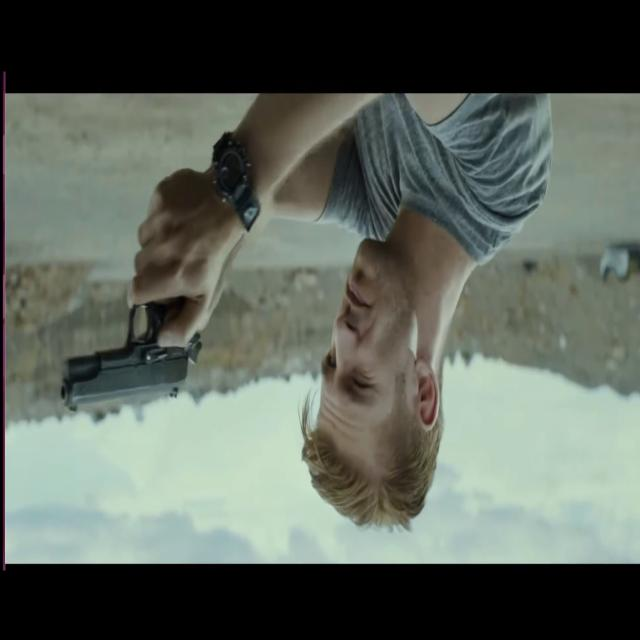weapons: (50, 272, 212, 438)
